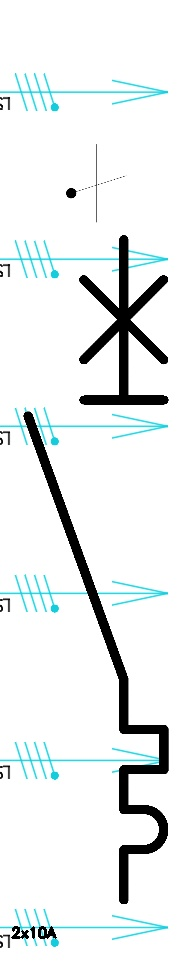interruptor_termomagnetico: (11, 222, 181, 916)
